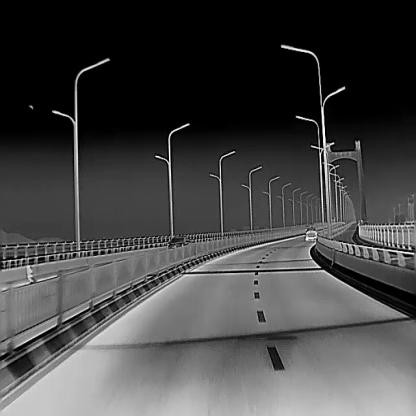car: (168, 236, 186, 247), (305, 227, 316, 239)
